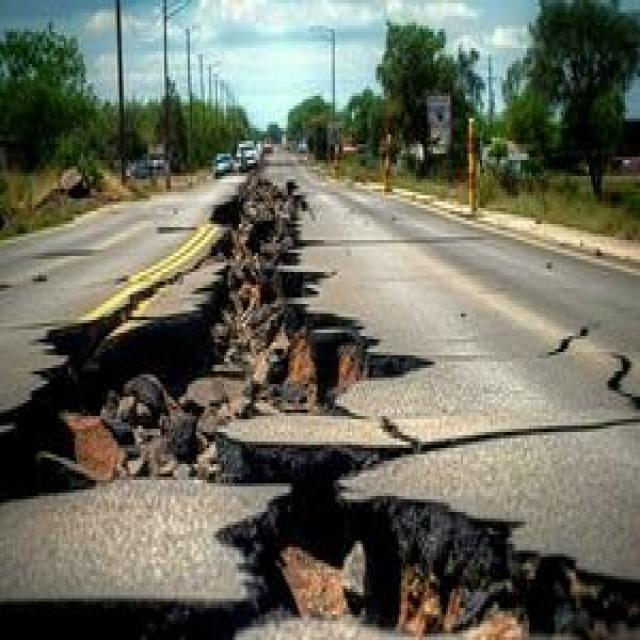road collapse: (21, 130, 640, 640)
